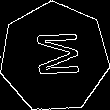M_W: (28, 33, 81, 82)
